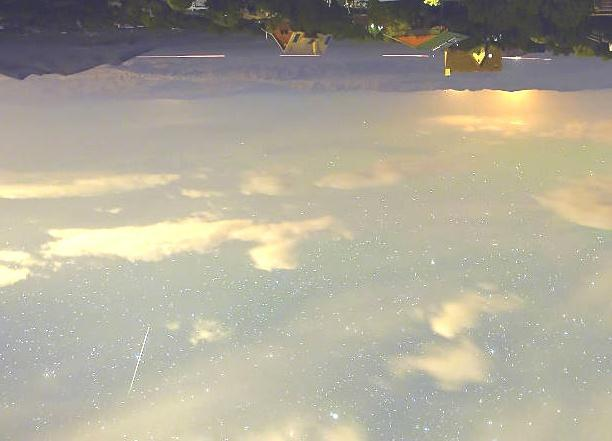meteorite: (116, 312, 161, 401)
